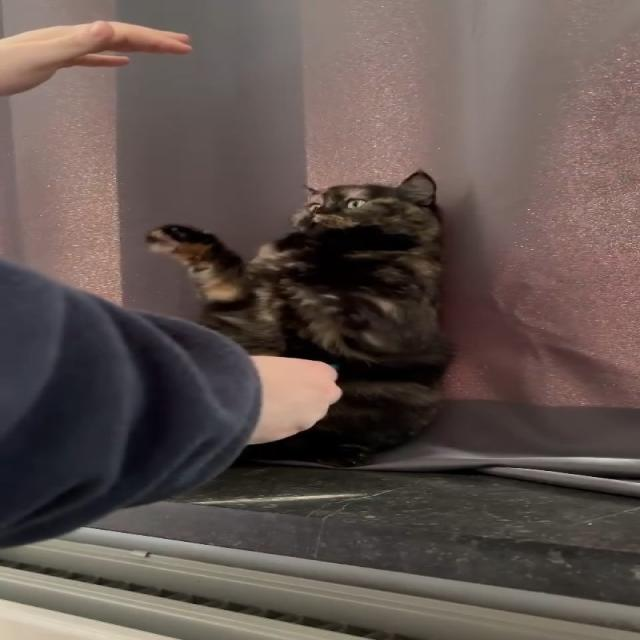authorized: (144, 169, 457, 468)
